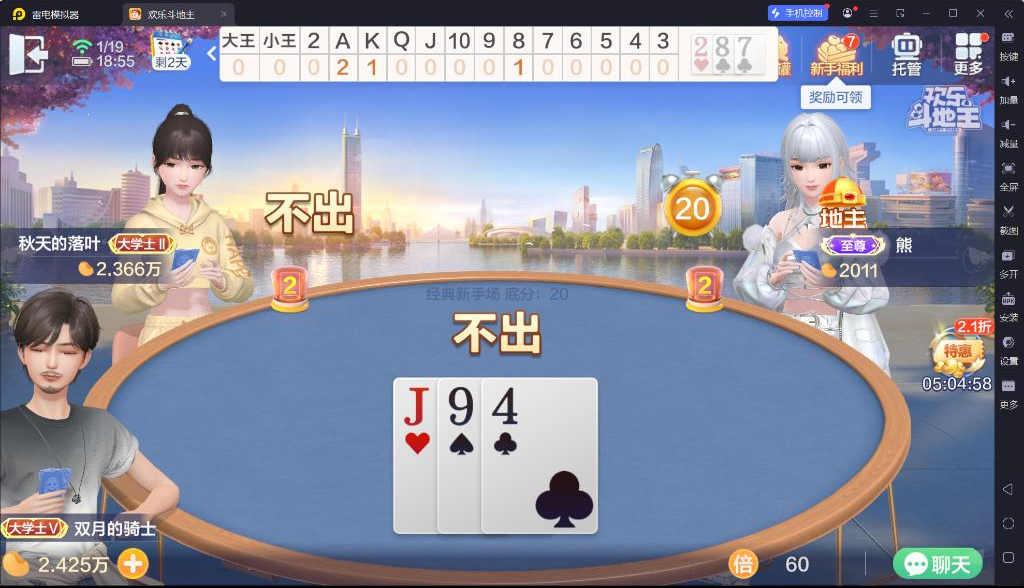J: (402, 385, 430, 427)
eight: (714, 35, 730, 58)
four: (489, 385, 521, 427)
nine: (445, 384, 476, 428)
seven: (737, 36, 753, 57)
two: (693, 36, 709, 58)
